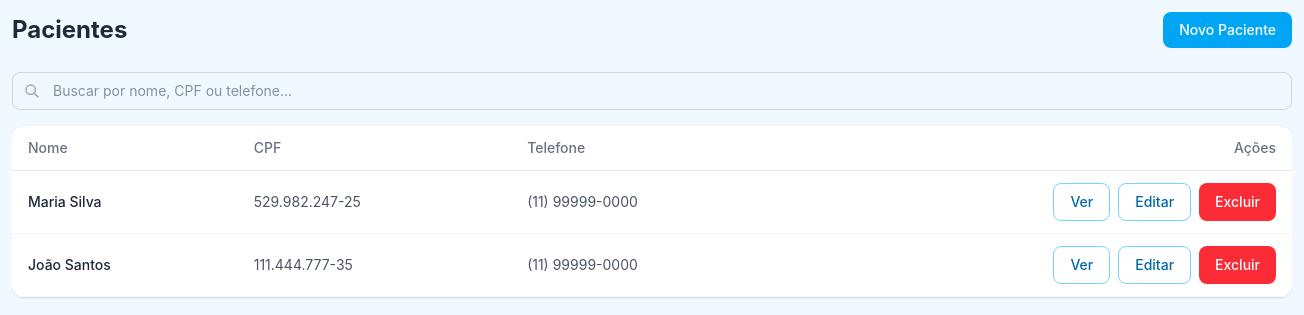
Test: PatientList › filters patients via server-side search
Expected: the text "Maria Silva" is shown, [12,170,238,234]
Expected: the text "João Santos" is shown, [12,234,238,296]
Type "João" into the field with placeholder "Buscar por nome, CPF ou telefone..." at point(652, 91), box [12,72,1292,110]
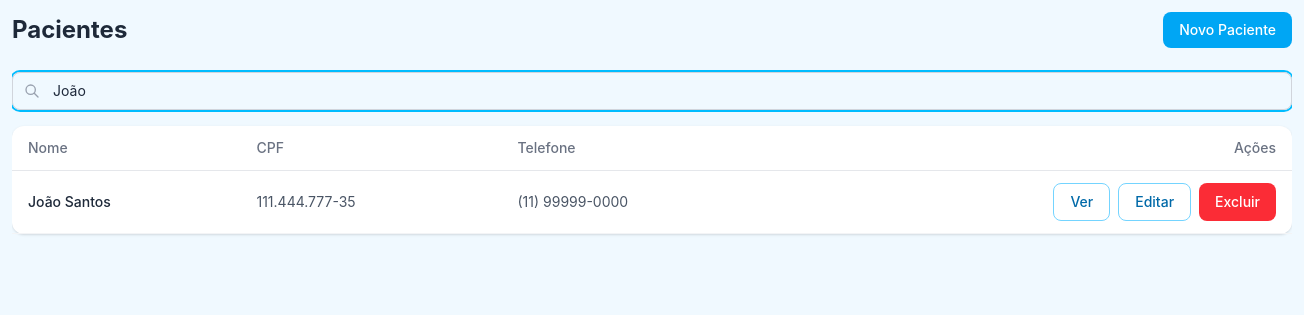
Expected: the text "João Santos" is shown, [12,170,240,234]
Expected: the text "Maria Silva" is gone
